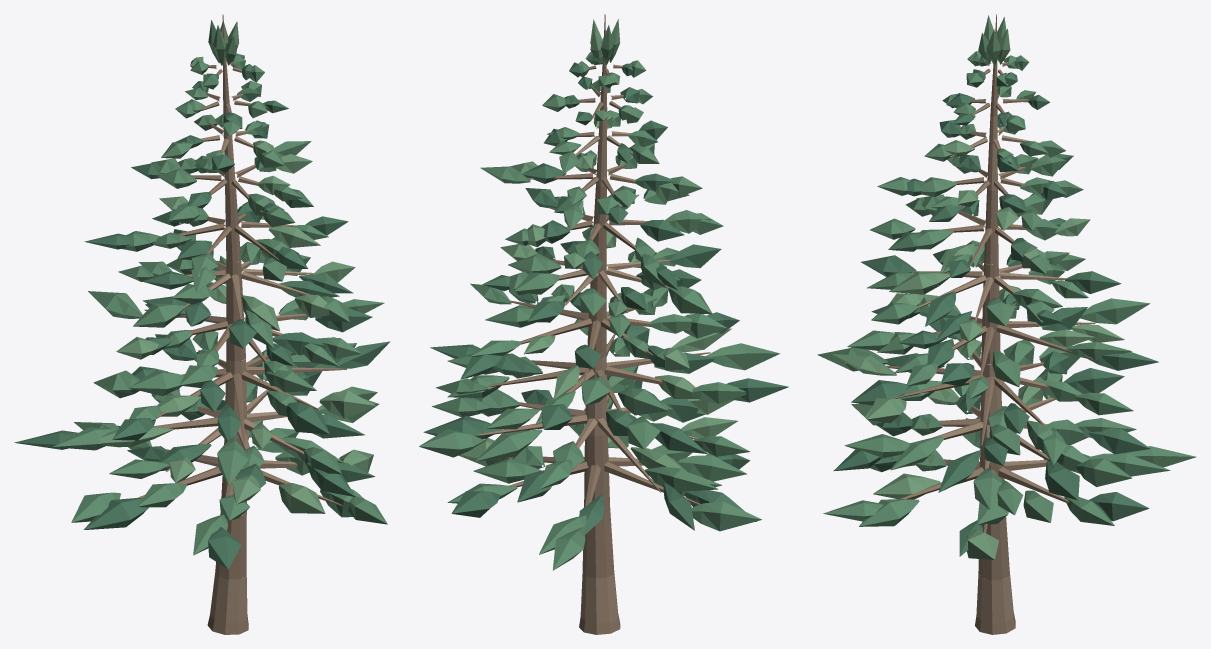
Rendered from PineTree001.glb.
3 renders of one model, left to right at view 1: azimuth 30°, elevation 25°; view 2: azimuth 150°, elevation 25°; view 3: azimuth 270°, elevation 25°, orthographic.
Parts seen in each view (by area): view 1: PineTree001Artwork; view 2: PineTree001Artwork; view 3: PineTree001Artwork.
Part boxes in pixels (left/top/right/bottom): PineTree001Artwork: left=14, top=14, right=390, bottom=634; PineTree001Artwork: left=419, top=14, right=788, bottom=634; PineTree001Artwork: left=817, top=14, right=1196, bottom=634.
Size of the model in its own units: 7.97 by 14.37 by 8.1.
